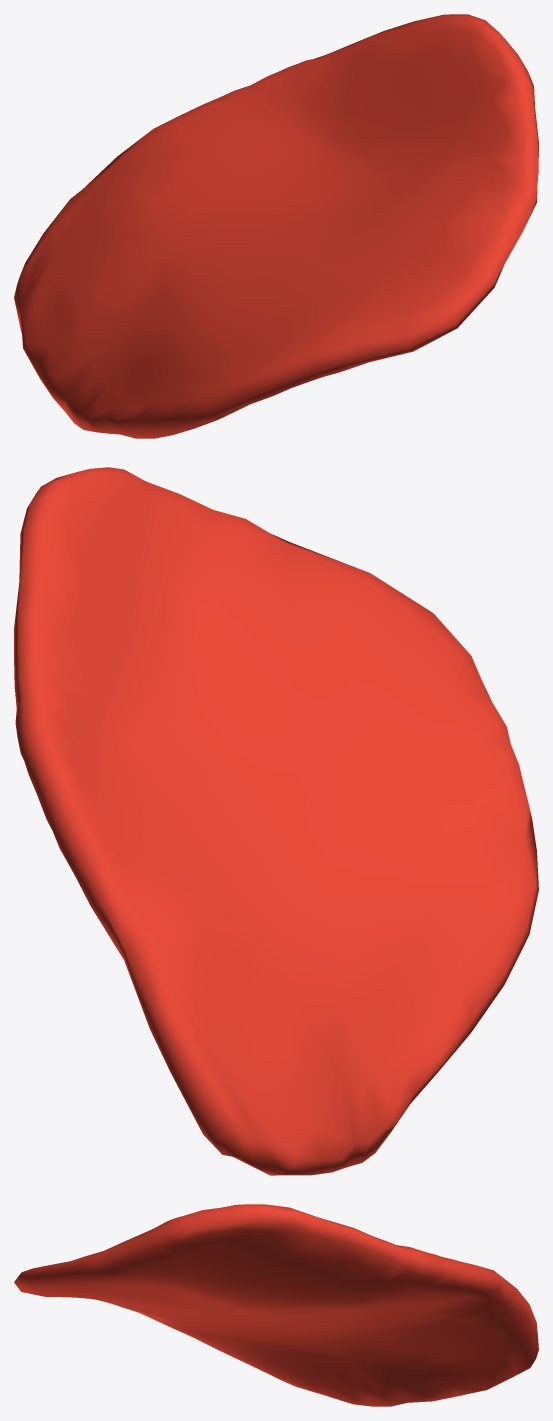
File: Biceps_brachii_long_head_infraglenoid_tubercle_scapula_left.glb
3 renders of one model, top to bottom at view 1: azimuth 30°, elevation 25°; view 2: azimuth 150°, elevation 25°; view 3: azimuth 270°, elevation 25°, orthographic. The views are drawn at different scales.
Visible parts, largest first — view 1: Long_head_of_biceps_brachii_on_infraglenoid_tubercle_of_scap; view 2: Long_head_of_biceps_brachii_on_infraglenoid_tubercle_of_scap; view 3: Long_head_of_biceps_brachii_on_infraglenoid_tubercle_of_scap.
Part boxes in pixels (bbox=[...]): Long_head_of_biceps_brachii_on_infraglenoid_tubercle_of_scap: bbox=[14, 14, 538, 438]; Long_head_of_biceps_brachii_on_infraglenoid_tubercle_of_scap: bbox=[14, 467, 538, 1175]; Long_head_of_biceps_brachii_on_infraglenoid_tubercle_of_scap: bbox=[14, 1204, 538, 1406].
Bounding box in the file's own units: 0.00598 × 0.0063 × 0.00893.
